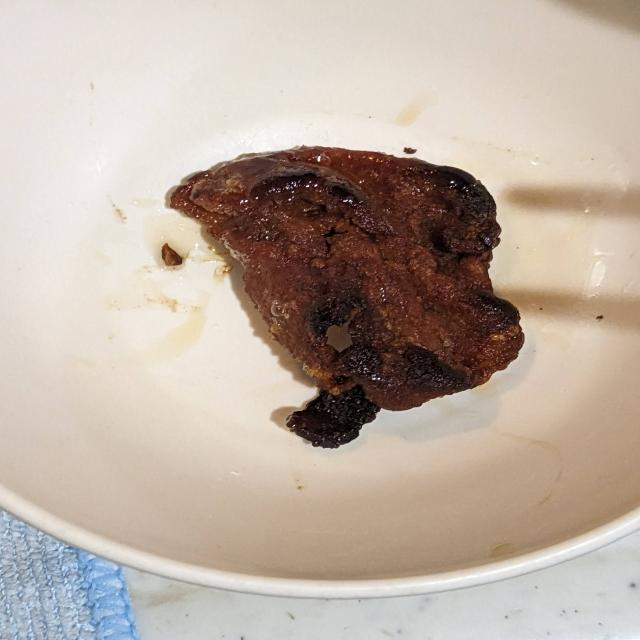overcooked pork: (150, 140, 549, 460)
